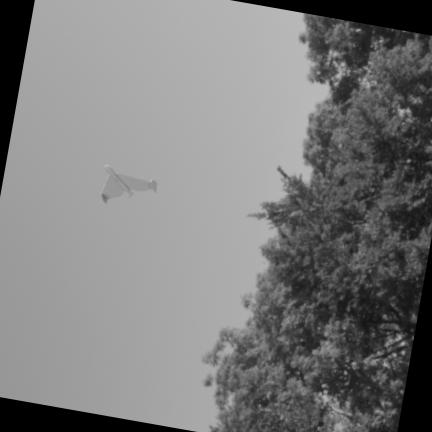Shahed: (101, 164, 158, 203)
